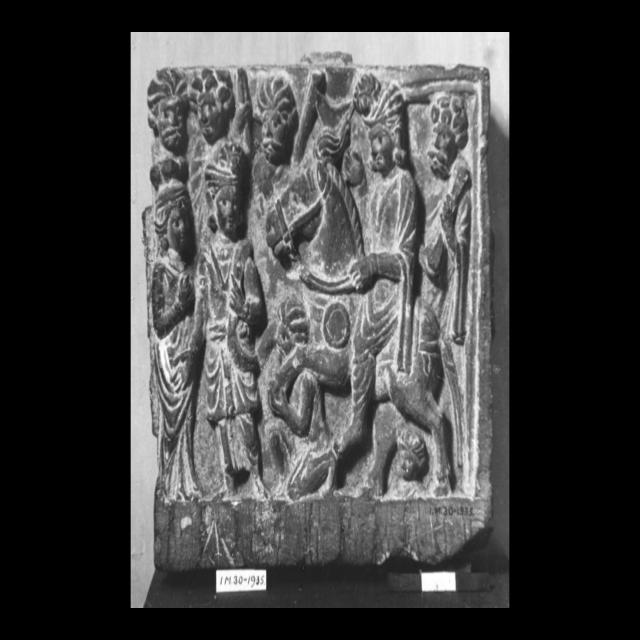buddha-horse-riding: (266, 76, 462, 496)
